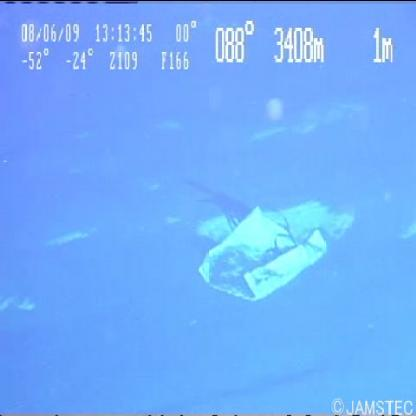Rác: (169, 173, 361, 312)
